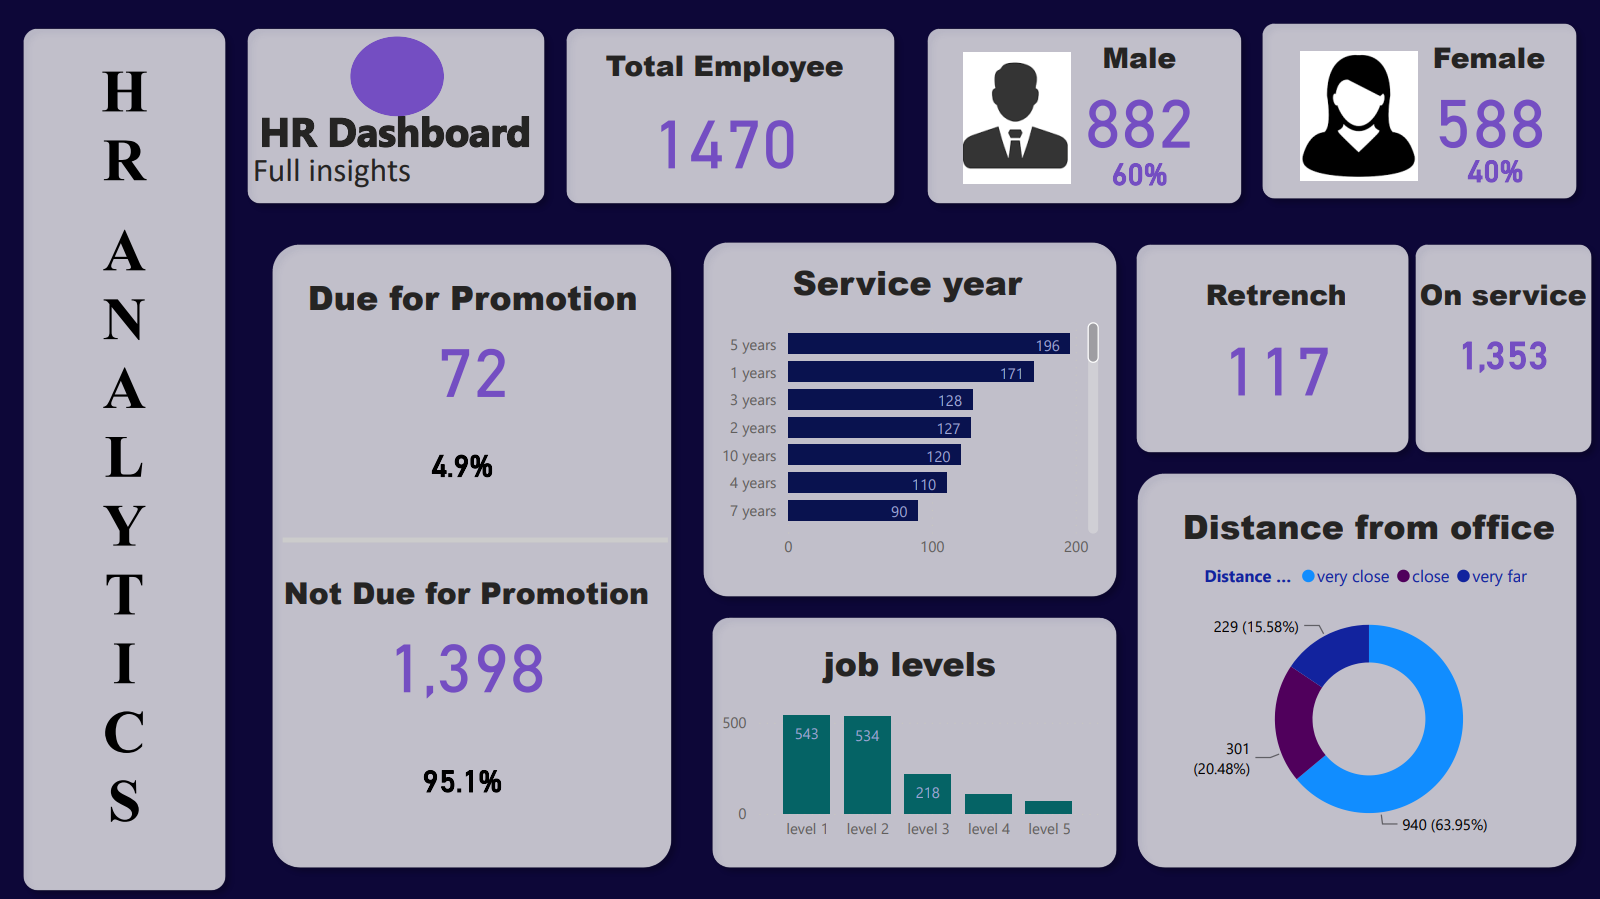

What the dashboard file says about the page in this screenshot:
{"tool":"powerbi","page":{"name":"Page 1","canvas":[1280,720],"ordinal":0},"visuals":[{"type":"shape","box":[9.5,14.3,179.7,705.7],"z":0},{"type":"shape","box":[189.2,13.7,255,157.7],"z":1000},{"type":"shape","box":[444.2,13.7,279.7,157.7],"z":2000},{"type":"shape","box":[733.1,14.3,267.8,157.1],"z":3000},{"type":"shape","box":[1000.9,9.5,267.8,157.1],"z":4000},{"type":"shape","box":[209.5,186.8,335.6,515.3],"z":5000},{"type":"shape","box":[553.9,185.1,346.9,300.3],"z":6000},{"type":"shape","box":[560.8,485.4,340,216.6],"z":7000},{"type":"shape","box":[899.7,186.8,235.6,183.3],"z":8000},{"type":"shape","box":[1123.4,186.8,157.1,183.3],"z":9000},{"type":"shape","box":[900.9,370.1,367.7,332],"z":10000},{"type":"textbox","box":[197.4,76.8,237.2,60.3],"z":11000},{"type":"textbox","box":[197.4,115.2,237.2,42.5],"z":12000},{"type":"shape","box":[279.7,28.6,75,64.3],"z":13000},{"type":"card","title":"Total Employee","fields":{"Values":["All measures.Total"]},"box":[478.5,35.6,202.9,115.2],"z":14000},{"type":"card","title":"Male","fields":{"Values":["All measures.Male"]},"box":[837.8,28.6,146.4,96.4],"z":15000},{"type":"card","title":"Female","fields":{"Values":["All measures.Female"]},"box":[1111.5,28.6,157.1,96.4],"z":16000},{"type":"image","box":[756.9,36.9,110.7,115.4],"z":17000},{"type":"image","box":[1028.2,35.7,116.6,113.1],"z":18000},{"type":"card","title":"Male","fields":{"Values":["All measures.% male"]},"box":[837.8,90.4,146.4,96.4],"z":19000},{"type":"card","title":"Male","fields":{"Values":["All measures.% female"]},"box":[1122.2,88.1,146.4,96.4],"z":20000},{"type":"card","title":"Due for Promotion","fields":{"Values":["All measures.Due for Promotion"]},"box":[226.1,219,303.5,105.9],"z":21000},{"type":"card","title":"Due for Promotion","fields":{"Values":["All measures.% not due"]},"box":[271.3,583.1,196.4,80.9],"z":22000},{"type":"card","title":"Not Due for Promotion","fields":{"Values":["All measures.Not Due for Promotion"]},"box":[221.4,457,303.5,105.9],"z":23000},{"type":"card","title":"Due for Promotion","fields":{"Values":["All measures.%  due"]},"box":[271.3,330.8,196.4,80.9],"z":24000},{"type":"shape","box":[226.1,411.8,308.2,39.3],"z":25000},{"type":"columnChart","title":"job levels","fields":{"Y":["All measures.Total"],"Category":["HR Analytics Data.job levels"]},"box":[572.4,510.5,310.6,169],"z":26000},{"type":"barChart","title":"Service year   ","fields":{"Category":["HR Analytics Data.Service year"],"Y":["All measures.Total"]},"box":[567.7,207.1,315.4,247.5],"z":27000},{"type":"card","title":"On service","fields":{"Values":["All measures.On service"]},"box":[1123.4,219,157.1,96.4],"z":28000},{"type":"card","title":"Retrench ","fields":{"Values":["All measures.retrench"]},"box":[939,219,163,111.9],"z":29000},{"type":"donutChart","title":"Distance from office","fields":{"Category":["HR Analytics Data.Distance status"],"Y":["All measures.Total"]},"box":[930.6,402.2,327.3,277.3],"z":30000},{"type":"textbox","box":[53.6,40.5,91.6,679.5],"z":31000}]}

Visuals, with their boxes in screenshot pixels (x1, y1, x2, y2), scaled from the page's 1280x720 canvas onto the 1600x899 screenshot:
shape: (left=12, top=18, right=236, bottom=898)
shape: (left=236, top=17, right=555, bottom=214)
shape: (left=555, top=17, right=905, bottom=214)
shape: (left=916, top=18, right=1251, bottom=214)
shape: (left=1251, top=12, right=1586, bottom=208)
shape: (left=262, top=233, right=681, bottom=877)
shape: (left=692, top=231, right=1126, bottom=606)
shape: (left=701, top=606, right=1126, bottom=877)
shape: (left=1125, top=233, right=1419, bottom=462)
shape: (left=1404, top=233, right=1599, bottom=462)
shape: (left=1126, top=462, right=1586, bottom=877)
textbox: (left=247, top=96, right=543, bottom=171)
textbox: (left=247, top=144, right=543, bottom=197)
shape: (left=350, top=36, right=443, bottom=116)
"Total Employee" card: (left=598, top=44, right=852, bottom=188)
"Male" card: (left=1047, top=36, right=1230, bottom=156)
"Female" card: (left=1389, top=36, right=1586, bottom=156)
image: (left=946, top=46, right=1084, bottom=190)
image: (left=1285, top=45, right=1431, bottom=186)
"Male" card: (left=1047, top=113, right=1230, bottom=233)
"Male" card: (left=1403, top=110, right=1586, bottom=230)
"Due for Promotion" card: (left=283, top=273, right=662, bottom=406)
"Due for Promotion" card: (left=339, top=728, right=585, bottom=829)
"Not Due for Promotion" card: (left=277, top=571, right=656, bottom=703)
"Due for Promotion" card: (left=339, top=413, right=585, bottom=514)
shape: (left=283, top=514, right=668, bottom=563)
"job levels" columnChart: (left=716, top=637, right=1104, bottom=848)
"Service year   " barChart: (left=710, top=259, right=1104, bottom=568)
"On service" card: (left=1404, top=273, right=1599, bottom=394)
"Retrench " card: (left=1174, top=273, right=1378, bottom=413)
"Distance from office" donutChart: (left=1163, top=502, right=1572, bottom=848)
textbox: (left=67, top=51, right=182, bottom=898)
